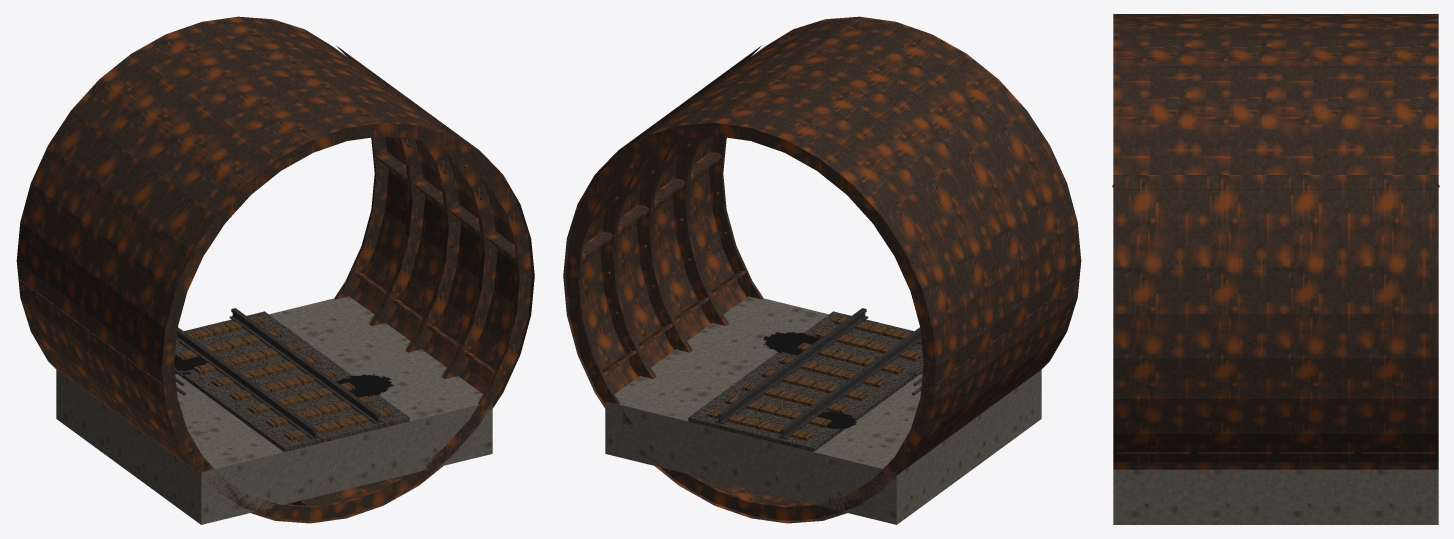
Rendered from tunnel_section_4m_rusty.glb.
3 renders of one model, left to right at view 1: azimuth 30°, elevation 25°; view 2: azimuth 150°, elevation 25°; view 3: azimuth 270°, elevation 25°, orthographic. The views are drawn at different scales.
Visible parts, largest first — view 1: TubingRings, TrackBed, Ballast, Sleepers, Rails, Puddle1; view 2: TubingRings, TrackBed, Ballast, Sleepers, Rails, Puddle1; view 3: TubingRings, TrackBed.
Part boxes in pixels (bbox=[...]): TubingRings: bbox=[16, 16, 534, 523]; TrackBed: bbox=[56, 296, 492, 524]; Ballast: bbox=[175, 311, 409, 451]; Sleepers: bbox=[175, 316, 391, 440]; Rails: bbox=[176, 308, 382, 439]; Puddle1: bbox=[336, 374, 393, 397]; TubingRings: bbox=[563, 16, 1081, 523]; TrackBed: bbox=[605, 296, 1041, 524]; Ballast: bbox=[688, 311, 923, 451]; Sleepers: bbox=[706, 316, 922, 440]; Rails: bbox=[715, 308, 921, 439]; Puddle1: bbox=[763, 332, 819, 355]; TubingRings: bbox=[1113, 14, 1438, 469]; TrackBed: bbox=[1113, 469, 1438, 524].
Size of what is drawn, in the model's own units: 5.98 by 5.98 by 4.03.
Materials: 7 (6 with a texture image).
